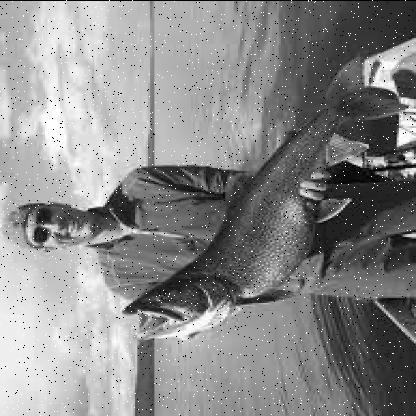fish: (124, 60, 397, 344)
